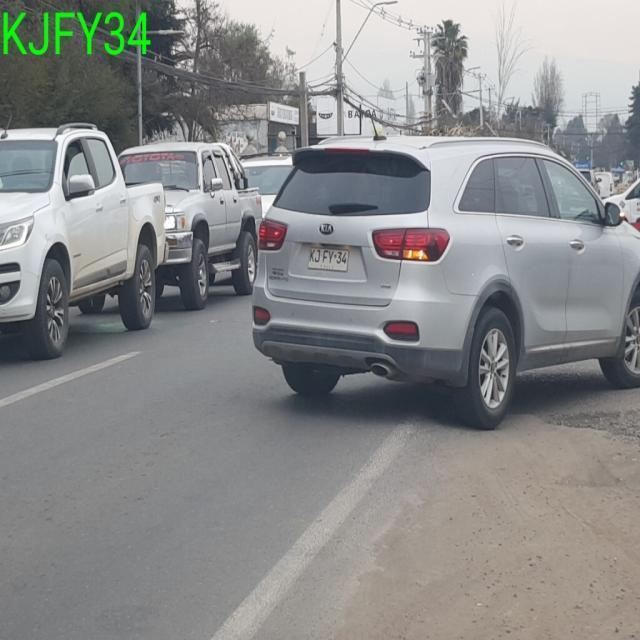Car: (249, 131, 639, 429)
Pickup: (0, 120, 168, 359), (115, 139, 263, 310)
